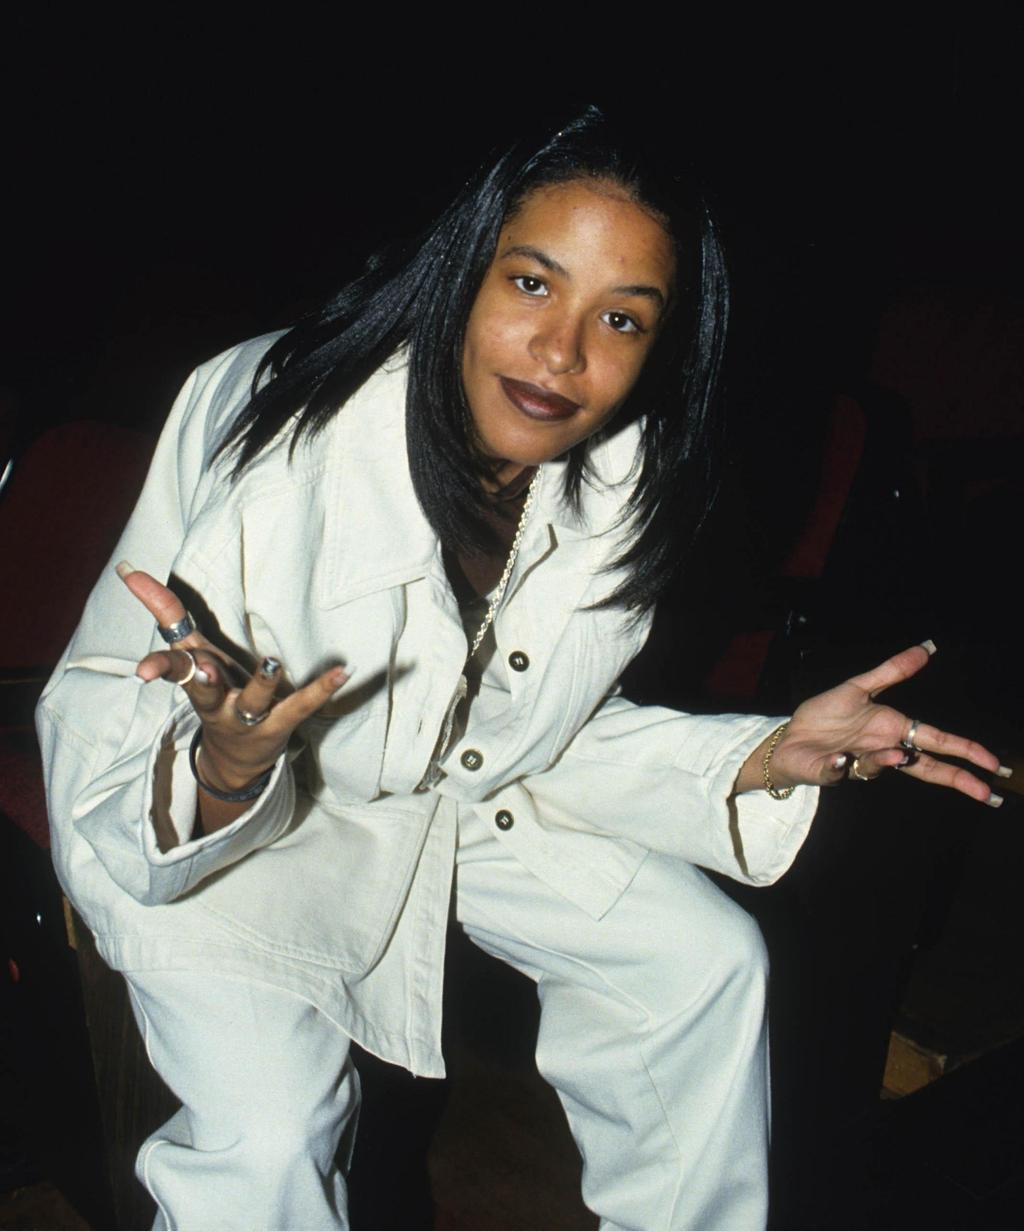face: (470, 174, 686, 462)
